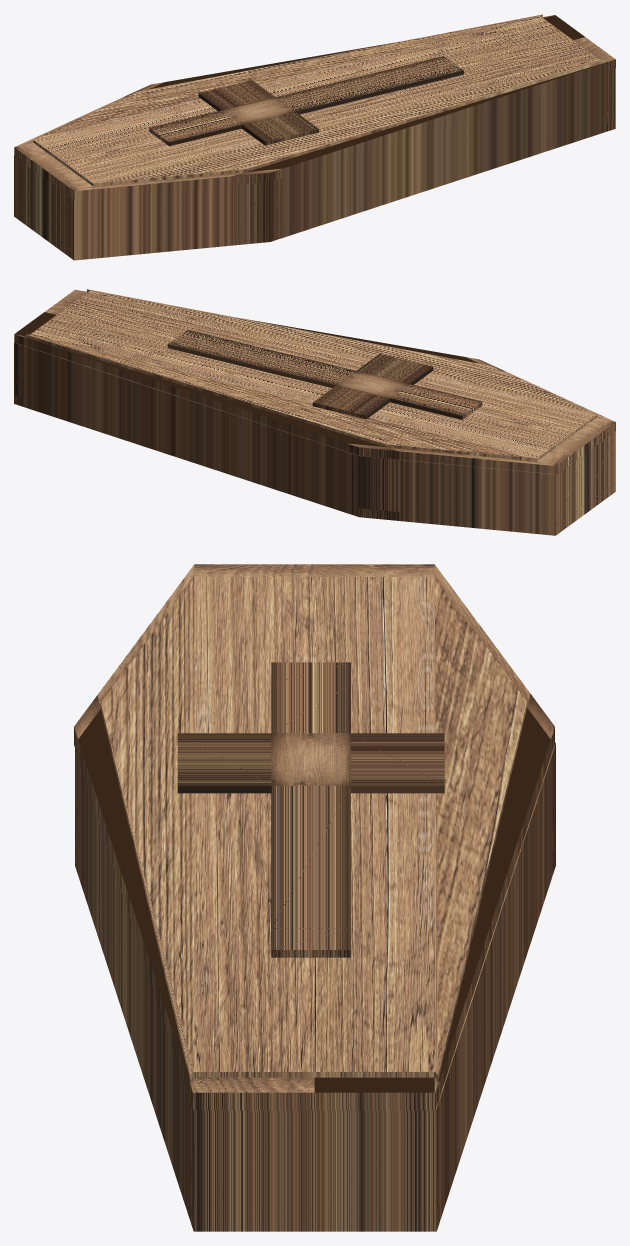
The model's file is tomba_animata.fbx.
3 renders of one model, top to bottom at view 1: azimuth 30°, elevation 25°; view 2: azimuth 150°, elevation 25°; view 3: azimuth 270°, elevation 25°, orthographic. The views are drawn at different scales.
Parts seen in each view (by area): view 1: Cube_1, Cube; view 2: Cube_1, Cube; view 3: Cube_1, Cube.
Part boxes in pixels (left/top/right/bottom): Cube_1: left=14, top=14, right=615, bottom=200; Cube: left=14, top=68, right=615, bottom=260; Cube_1: left=14, top=289, right=615, bottom=474; Cube: left=14, top=342, right=615, bottom=535; Cube_1: left=74, top=564, right=554, bottom=1110; Cube: left=75, top=742, right=555, bottom=1231.
Bounding box in the file's own units: 47690 × 6414 × 18390.
